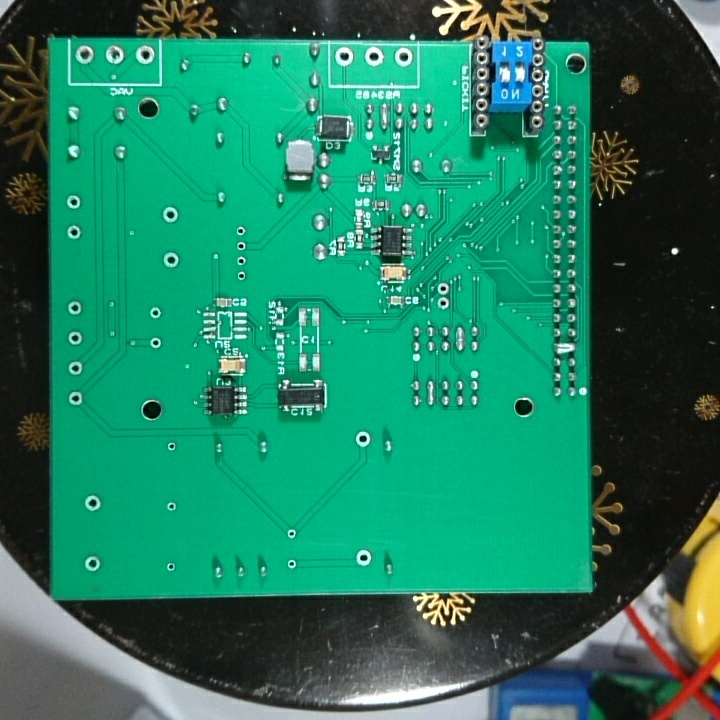F: (363, 43, 388, 75), (333, 45, 359, 71), (132, 43, 158, 69), (73, 43, 99, 69), (102, 43, 127, 68), (82, 492, 106, 515), (394, 45, 414, 71), (353, 428, 374, 452), (161, 249, 182, 272), (160, 205, 181, 226), (353, 548, 374, 569), (64, 298, 85, 318), (67, 221, 86, 243), (65, 358, 85, 378), (84, 555, 104, 575), (63, 192, 84, 210), (68, 389, 86, 409), (66, 327, 83, 348), (162, 500, 181, 517), (149, 303, 165, 323), (436, 293, 453, 311), (147, 334, 168, 348), (435, 281, 452, 298), (234, 253, 250, 271), (235, 263, 250, 282), (284, 555, 302, 569), (163, 560, 179, 575), (165, 440, 181, 455), (285, 525, 300, 540), (234, 238, 248, 253), (234, 223, 247, 239)
P: (378, 100, 393, 135), (424, 377, 440, 407), (454, 324, 469, 355), (552, 340, 578, 355)
